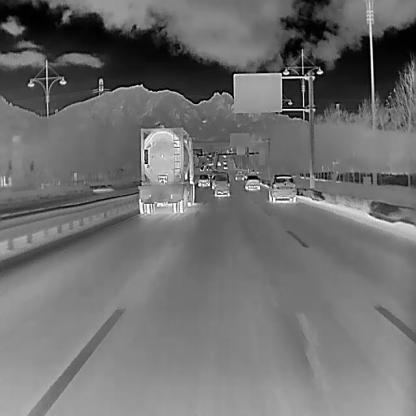car: (268, 174, 296, 202), (214, 172, 230, 196), (244, 175, 259, 189), (198, 172, 209, 186), (234, 169, 243, 180), (216, 160, 221, 167), (222, 159, 227, 164), (200, 165, 204, 171), (223, 164, 227, 169), (207, 152, 211, 157)
truck: (137, 125, 197, 213)
